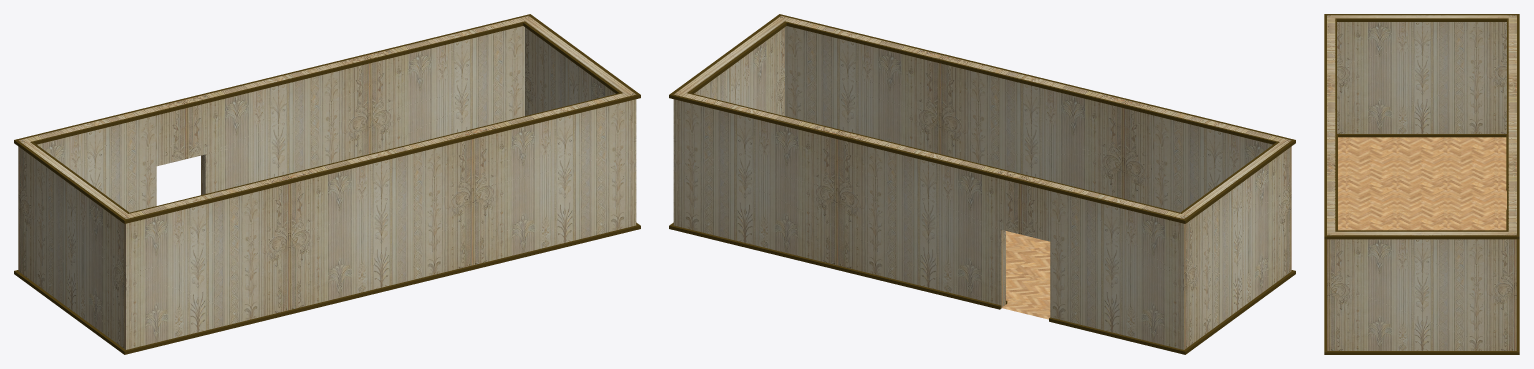
The model's file is Room_1.fbx.
The picture shows the model from 3 angles, left to right: view 1: azimuth 30°, elevation 25°; view 2: azimuth 150°, elevation 25°; view 3: azimuth 270°, elevation 25°; orthographic projection. The views are drawn at different scales.
Visible parts, largest first — view 1: Cube.026, Cube.028, Cube.030, Cube.027; view 2: Cube.026, Cube.028, Cube.030, Plane.008, Cube.027; view 3: Cube.026, Plane.008, Cube.028, Cube.030, Cube.027, Cube.029.
Part boxes in pixels (box(x1,y1,x2,y2)): Cube.026: box(18, 16, 636, 349); Cube.028: box(14, 14, 640, 223); Cube.030: box(30, 21, 622, 213); Cube.027: box(14, 222, 640, 354); Cube.026: box(673, 16, 1291, 349); Cube.028: box(669, 14, 1295, 223); Cube.030: box(687, 21, 1279, 213); Plane.008: box(1002, 231, 1050, 319); Cube.027: box(669, 222, 1295, 354); Cube.026: box(1327, 15, 1516, 350); Plane.008: box(1338, 137, 1506, 230); Cube.028: box(1324, 14, 1519, 239); Cube.030: box(1334, 18, 1508, 231); Cube.027: box(1324, 239, 1519, 354); Cube.029: box(1337, 134, 1506, 230).
Size of the model in its own units: 3544 by 880 by 1314.
Materials: 3 (2 with a texture image).
